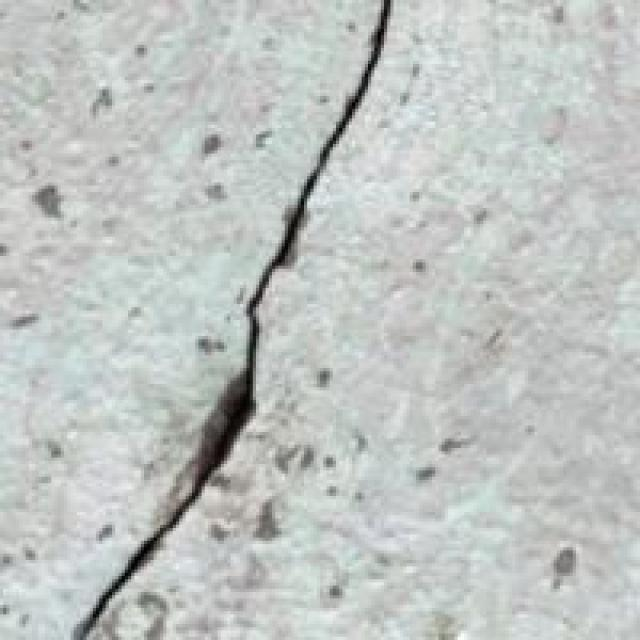Crack: (74, 0, 412, 637)
